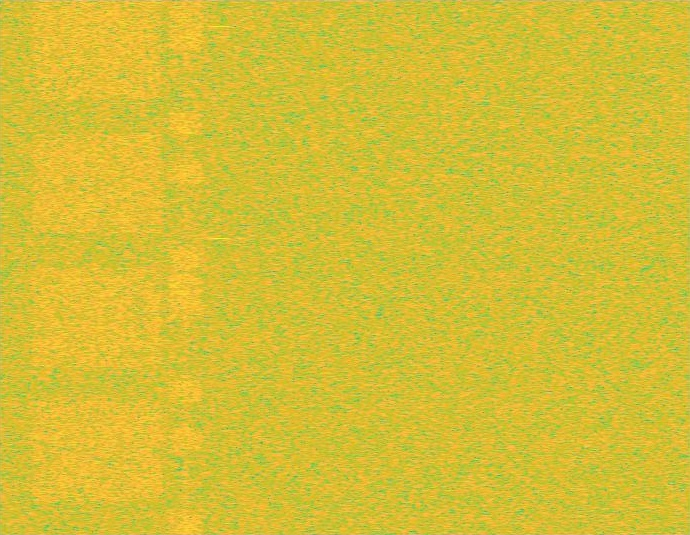5G: (29, 0, 167, 534)
DSSS: (184, 0, 188, 534)
LTE: (169, 0, 203, 534)
Radar: (212, 0, 226, 534)
